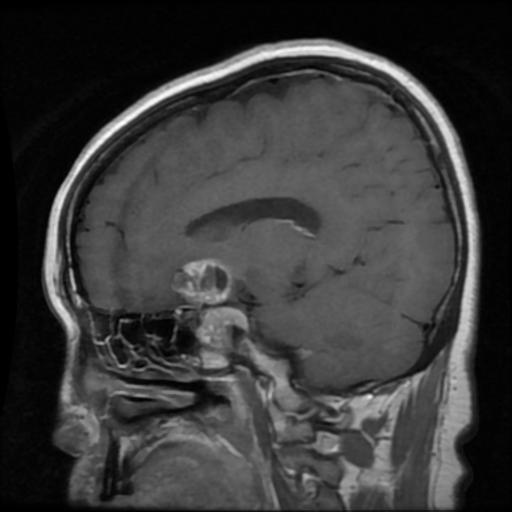Pituirity_tumour: (173, 256, 248, 347)
